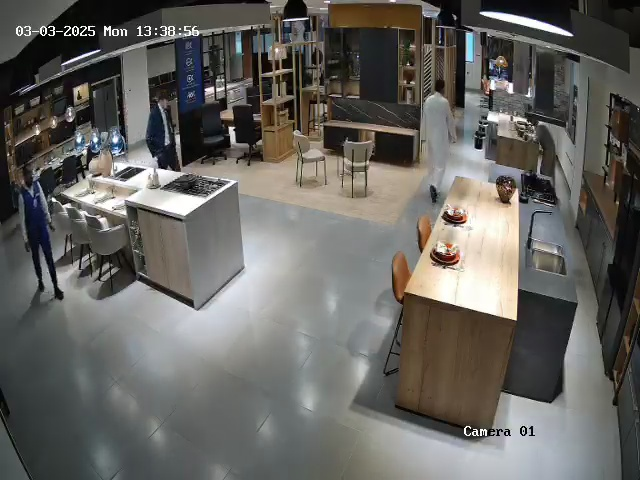employee: (12, 160, 64, 301), (146, 93, 180, 171)
male: (422, 79, 457, 203), (519, 117, 563, 179)
